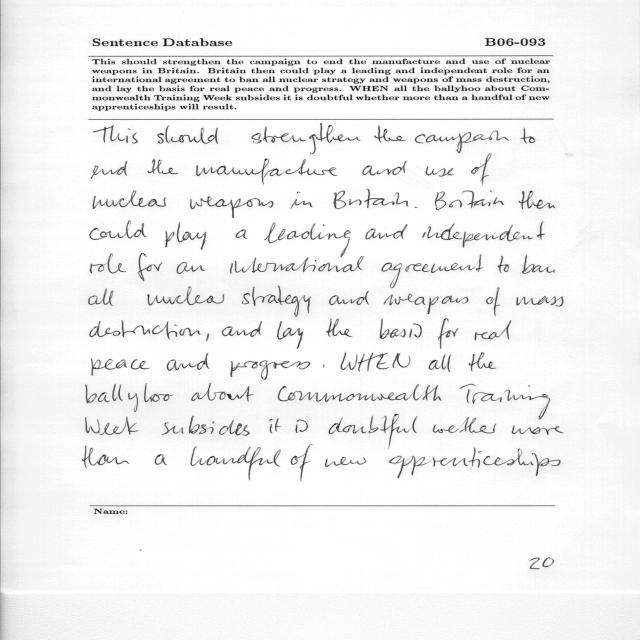word: (389, 448, 561, 478), (197, 158, 338, 185), (251, 123, 361, 155), (381, 255, 483, 289), (423, 222, 546, 248), (460, 384, 550, 419), (329, 414, 418, 449), (190, 447, 281, 481), (264, 223, 351, 258), (278, 384, 442, 402), (86, 383, 173, 412), (230, 256, 363, 274), (90, 320, 201, 340), (415, 131, 509, 154), (242, 286, 311, 317), (162, 416, 250, 436), (190, 197, 273, 218), (384, 294, 469, 314), (231, 360, 311, 380), (333, 189, 409, 209), (147, 287, 225, 306), (341, 352, 411, 372), (93, 190, 166, 209), (435, 191, 504, 210), (192, 383, 254, 402), (166, 222, 207, 250), (157, 126, 218, 144), (433, 417, 497, 434), (90, 221, 147, 240), (83, 446, 129, 468), (86, 416, 139, 435), (91, 359, 150, 376), (93, 125, 138, 144), (380, 319, 422, 339), (291, 444, 313, 481), (167, 353, 209, 371), (475, 321, 512, 341), (277, 321, 303, 349), (91, 254, 127, 274), (519, 191, 556, 210), (138, 254, 163, 282), (91, 161, 127, 179), (365, 224, 408, 239), (222, 321, 262, 337), (362, 161, 407, 175), (438, 319, 459, 349), (522, 255, 555, 274), (471, 154, 491, 185), (374, 125, 406, 143), (329, 291, 369, 305), (512, 425, 564, 435), (517, 296, 564, 307), (469, 353, 496, 372), (326, 319, 352, 337), (147, 159, 178, 174), (89, 288, 114, 306), (486, 287, 500, 317), (325, 457, 366, 467), (429, 354, 451, 372), (290, 192, 313, 209), (177, 262, 205, 274), (426, 166, 454, 177), (520, 128, 535, 144), (497, 256, 509, 273), (295, 419, 308, 433), (270, 419, 282, 434), (155, 454, 167, 465), (235, 229, 247, 239), (206, 333, 209, 342), (323, 365, 325, 367), (415, 207, 418, 208)
